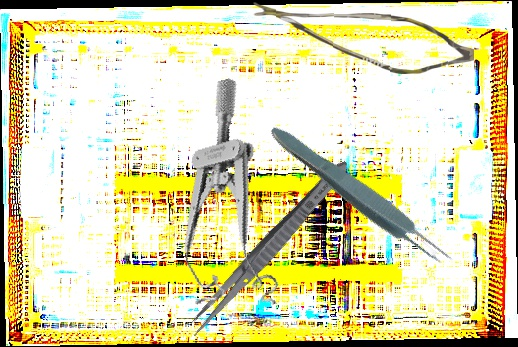Dressing Forceps: (183, 154, 355, 342)
Micro Scissor: (249, 2, 475, 75)
Speculum: (138, 76, 298, 326)
Tissue Forceps: (263, 118, 458, 276)
